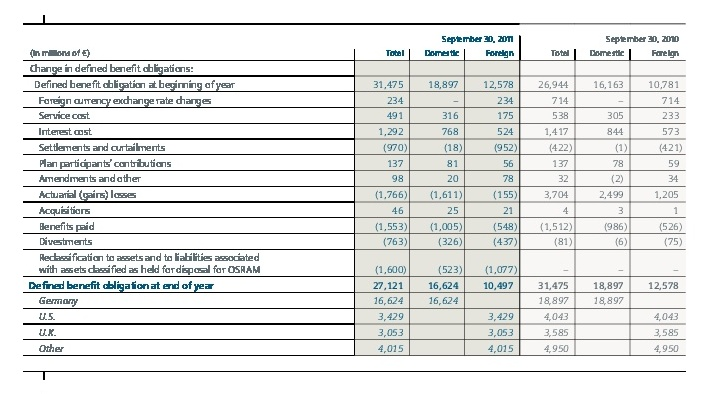table: (0, 0, 702, 394)
